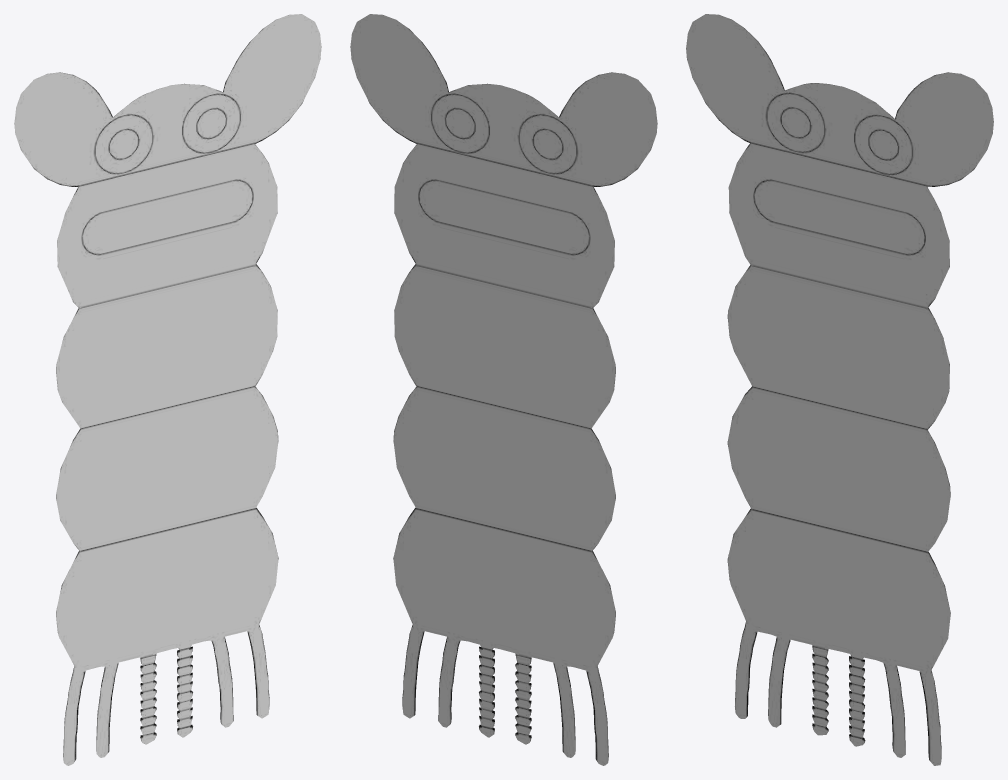
File: 18_yooful_fix.fbx
3 renders of one model, left to right at view 1: azimuth 30°, elevation 25°; view 2: azimuth 150°, elevation 25°; view 3: azimuth 330°, elevation 25°, orthographic.
Visible parts, largest first — view 1: planarTrimmedSurface24; view 2: planarTrimmedSurface24; view 3: planarTrimmedSurface24.
Part boxes in pixels (box(x1,y1,x2,y2)): planarTrimmedSurface24: box(14, 14, 321, 765); planarTrimmedSurface24: box(350, 14, 657, 765); planarTrimmedSurface24: box(686, 14, 993, 765).
Size of the model in its own units: 8.59 by 18.64 by 3.04e-06.
1 material, 1 textured.
